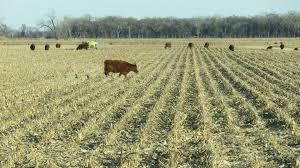cow: (103, 59, 138, 79), (76, 42, 89, 50), (164, 41, 172, 49), (228, 44, 235, 52), (188, 42, 194, 49), (204, 42, 210, 49)
